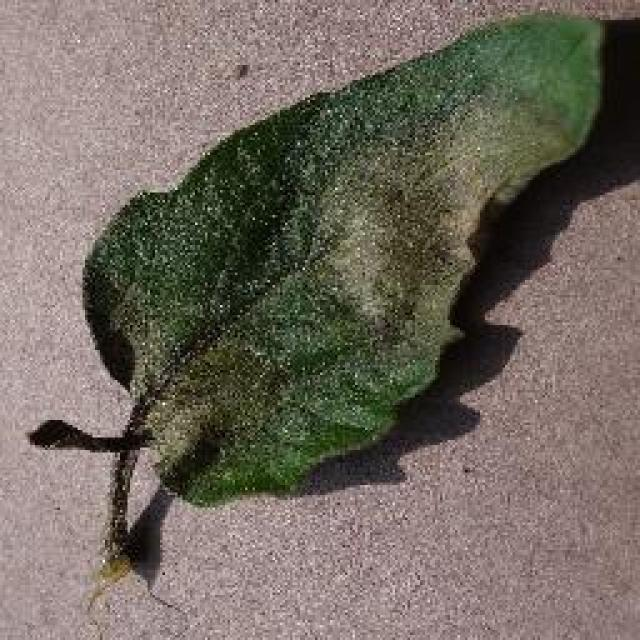Tomato Late Blight: (120, 107, 517, 438)
